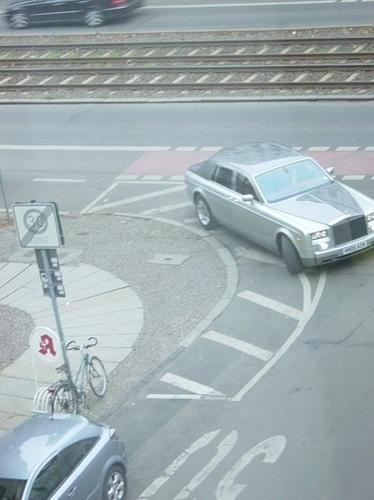bicycle: (49, 339, 111, 416)
car: (184, 141, 374, 278), (1, 412, 130, 500), (4, 1, 145, 31)
